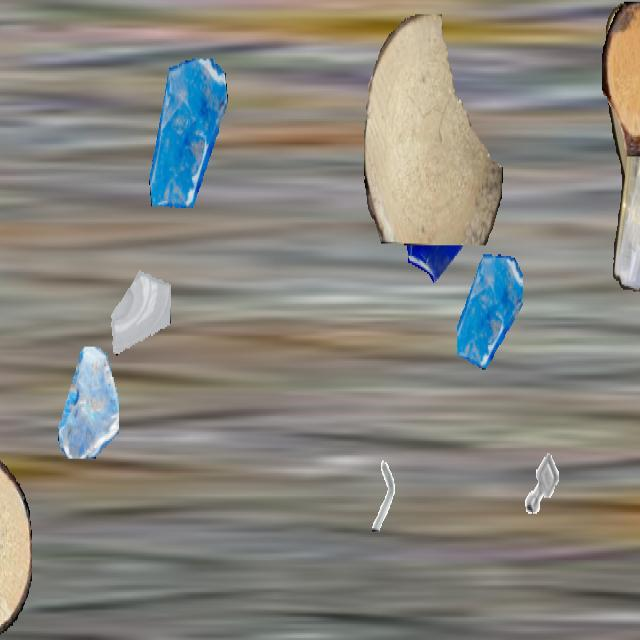glass: (146, 59, 230, 208), (396, 138, 478, 284), (457, 252, 523, 370), (56, 347, 118, 457), (110, 249, 170, 355)
metal: (517, 439, 567, 528), (362, 457, 404, 531)
plastic: (606, 2, 640, 311)
wood: (364, 14, 502, 246), (602, 1, 640, 154), (0, 457, 31, 638)
